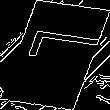L_E: (10, 34, 100, 76)
